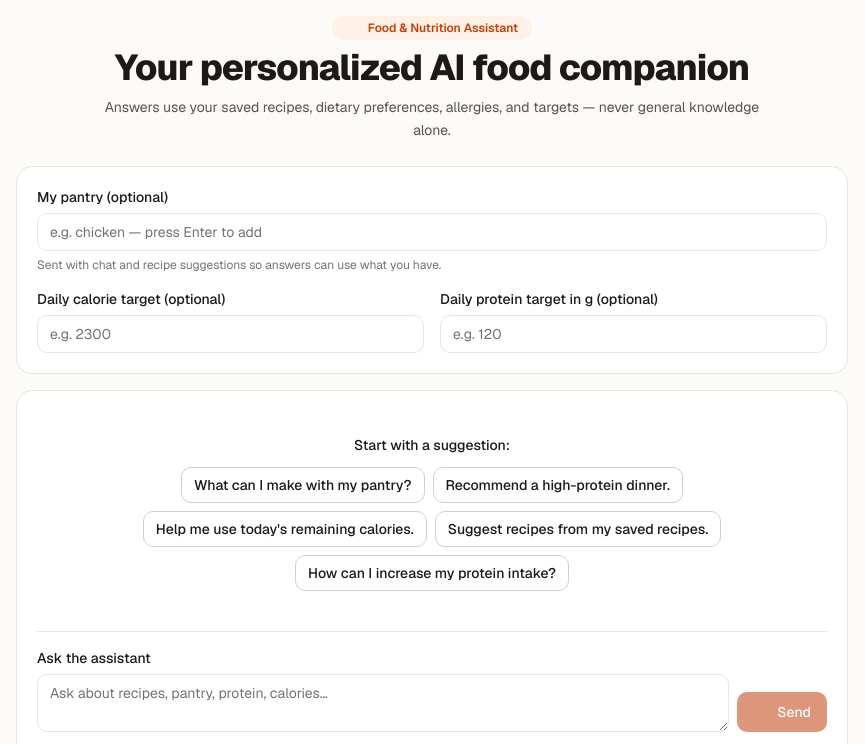
Test: AssistantPage — Food & Nutrition AI Assistant › shows an error state when the request fails
The image size is (865, 744).
Type "Hi" into the text box labelled "Ask the assistant" at (383, 702), box [37,674,729,732]
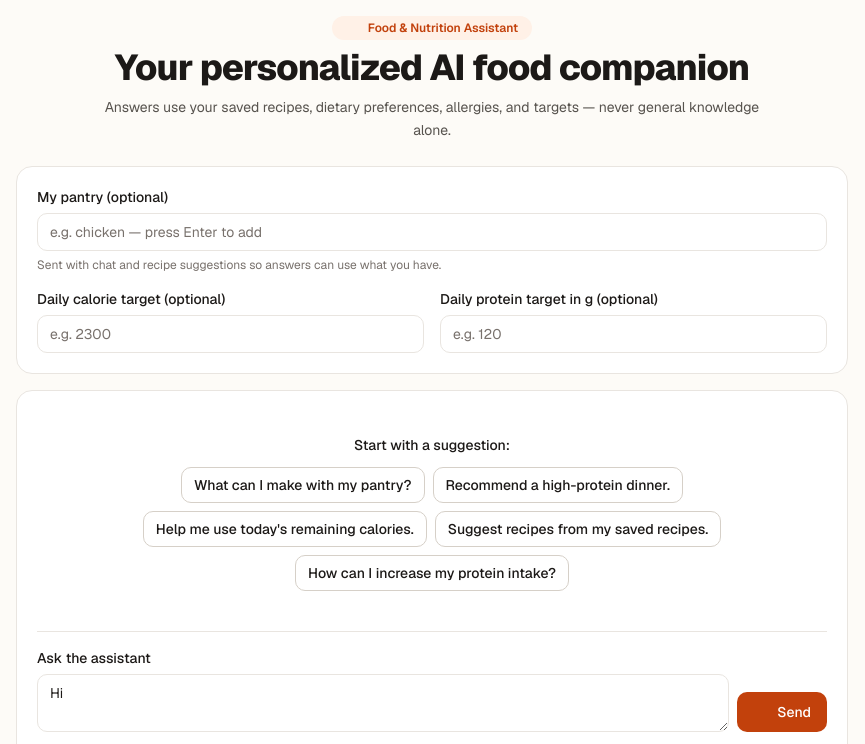
Click the button with aria-label "Send message" at (782, 712), box [737,692,827,732]
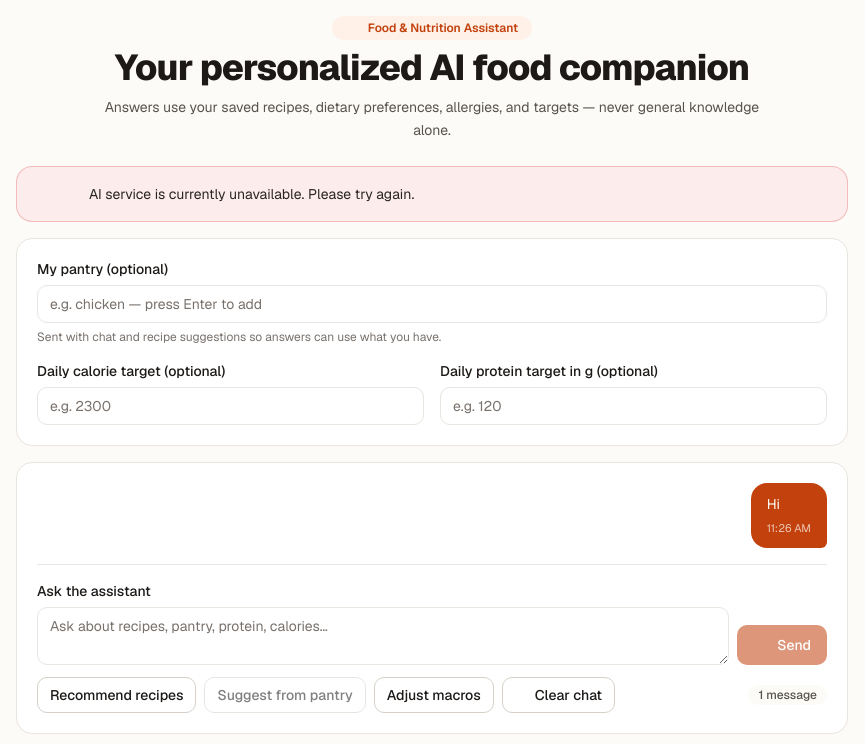
Result: the text "AI service is currently unavailable. Please try again." is shown at [89,182,414,205]
